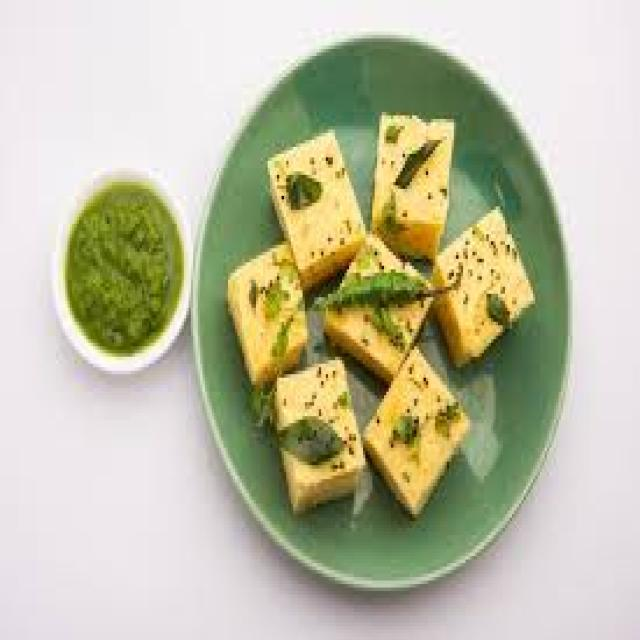DHOKLA: (358, 342, 466, 515), (430, 201, 534, 378), (264, 122, 362, 291), (270, 350, 363, 513), (316, 240, 429, 372), (226, 237, 309, 386), (373, 113, 458, 256)
IDLI: (365, 343, 470, 522)
